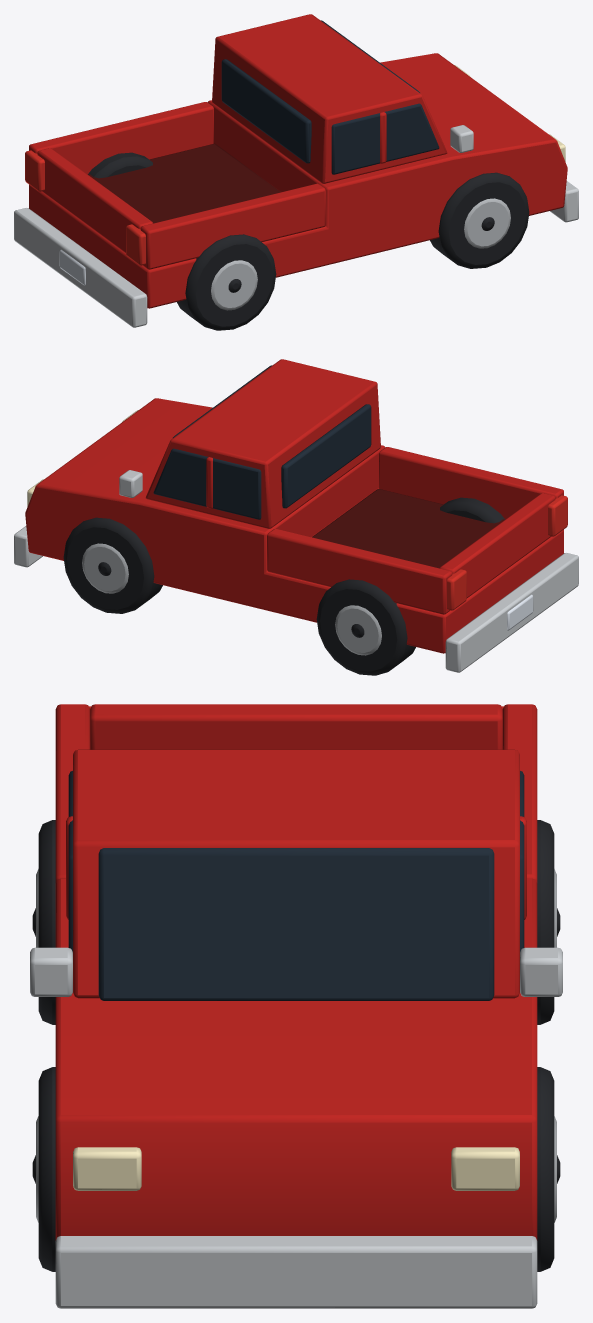
Rendered from car_red_pickup_smooth.glb.
The picture shows the model from 3 angles, top to bottom: view 1: azimuth 30°, elevation 25°; view 2: azimuth 150°, elevation 25°; view 3: azimuth 270°, elevation 25°; orthographic projection. The views are drawn at different scales.
Parts seen in each view (by area): view 1: body, wheel_RR, wheel_FR, wheel_RL; view 2: body, wheel_RL, wheel_FL, wheel_RR; view 3: body, wheel_FL, wheel_FR, wheel_RL, wheel_RR.
Boxes of the visible parts, x1,y1,x2,y2 form: body: (14, 14, 578, 327); wheel_RR: (177, 234, 276, 330); wheel_FR: (430, 172, 529, 268); wheel_RL: (88, 152, 152, 178); body: (14, 359, 578, 672); wheel_RL: (316, 579, 415, 675); wheel_FL: (63, 517, 162, 613); wheel_RR: (440, 497, 504, 523); body: (30, 704, 562, 1308); wheel_FL: (537, 1067, 560, 1271); wheel_FR: (32, 1067, 55, 1271); wheel_RL: (537, 820, 560, 1024); wheel_RR: (32, 820, 55, 1024).
Bounding box in the file's own units: 60.2 × 23.5 × 31.
